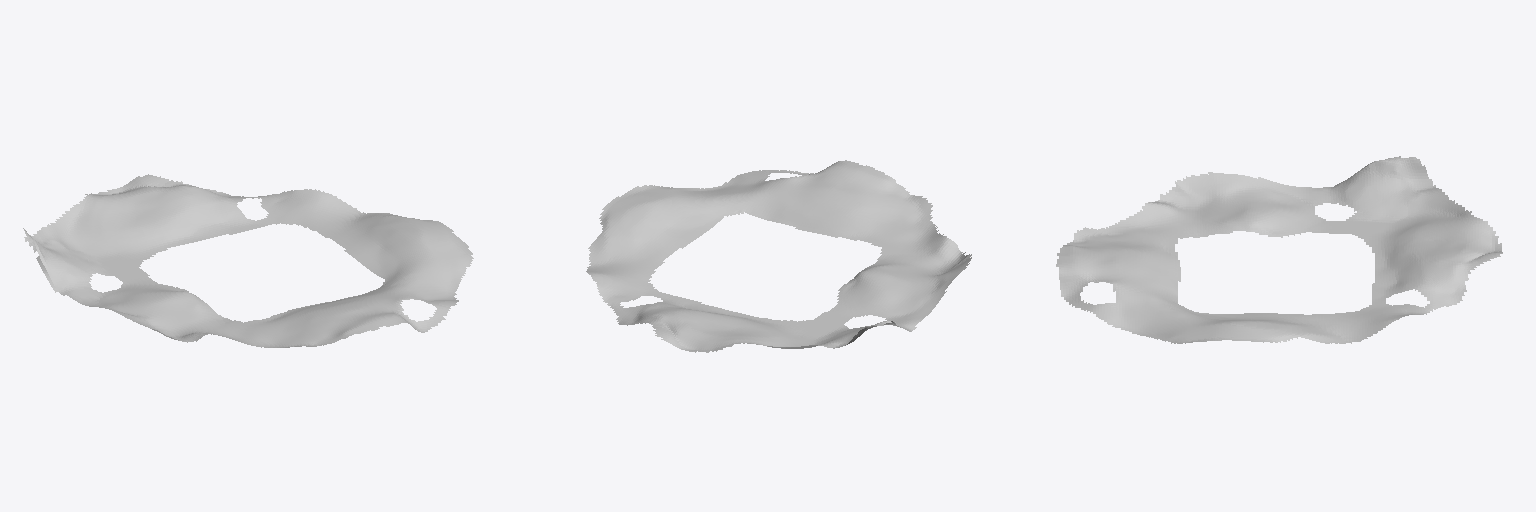
Rendered from grass.obj.
3 views of the same model, side by side, from view 1: azimuth 30°, elevation 25°; view 2: azimuth 150°, elevation 25°; view 3: azimuth 270°, elevation 25° (orthographic).
Visible parts, largest first — view 1: Plane.002_Plane.008; view 2: Plane.002_Plane.008; view 3: Plane.002_Plane.008.
Part boxes in pixels (x1,y1,x2,y2): Plane.002_Plane.008: (23,174,473,347); Plane.002_Plane.008: (586,160,971,352); Plane.002_Plane.008: (1056,156,1502,343).
Size of the model in its own units: 133 by 13.61 by 147.